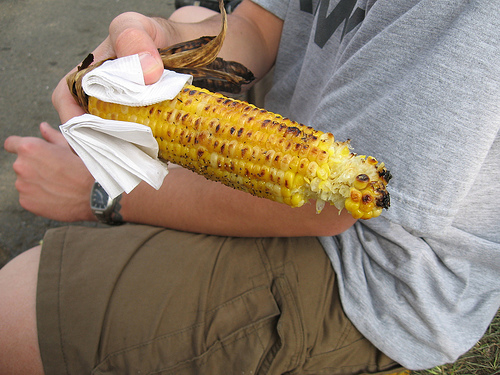corn: (87, 81, 392, 221)
